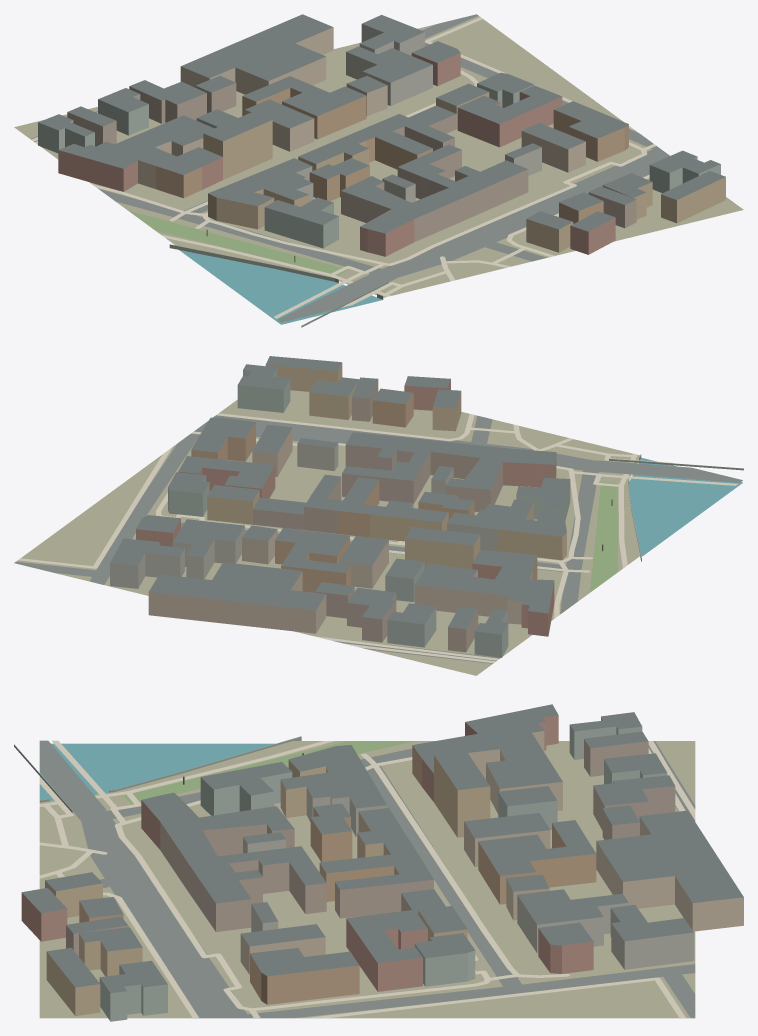
The model's file is sector--3_-6.glb.
3 renders of one model, top to bottom at view 1: azimuth 30°, elevation 25°; view 2: azimuth 150°, elevation 25°; view 3: azimuth 270°, elevation 25°, orthographic. The views are drawn at different scales.
Parts seen in each view (by area): view 1: -3:-6-facade, -3:-6-roof, -3:-6-ground, -3:-6-road, -3:-6-paving, -3:-6-water, -3:-6-park, -3:-6-bank; view 2: -3:-6-facade, -3:-6-roof, -3:-6-ground, -3:-6-road, -3:-6-paving, -3:-6-water, -3:-6-park; view 3: -3:-6-roof, -3:-6-facade, -3:-6-ground, -3:-6-road, -3:-6-paving, -3:-6-water, -3:-6-park, -3:-6-bank.
Boxes of the visible parts, x1,y1,x2,y2 form: -3:-6-facade: (38,24,725,256); -3:-6-roof: (38,14,725,233); -3:-6-ground: (14,15,743,297); -3:-6-road: (30,14,669,322); -3:-6-paving: (31,17,656,318); -3:-6-water: (179,250,382,324); -3:-6-park: (128,210,348,275); -3:-6-bank: (169,244,388,327); -3:-6-facade: (110,362,570,657); -3:-6-roof: (110,356,569,634); -3:-6-ground: (16,390,640,675); -3:-6-road: (14,415,742,663); -3:-6-paving: (18,413,738,663); -3:-6-water: (629,458,742,556); -3:-6-park: (590,482,617,592); -3:-6-roof: (22,704,743,993); -3:-6-facade: (21,715,743,1021); -3:-6-ground: (39,741,695,1018); -3:-6-road: (39,740,695,1018); -3:-6-paving: (39,740,695,1017); -3:-6-water: (39,743,274,801); -3:-6-park: (123,741,415,803); -3:-6-bank: (14,736,301,812).
Bounding box in the file's own units: 209 × 16.85 × 223.
